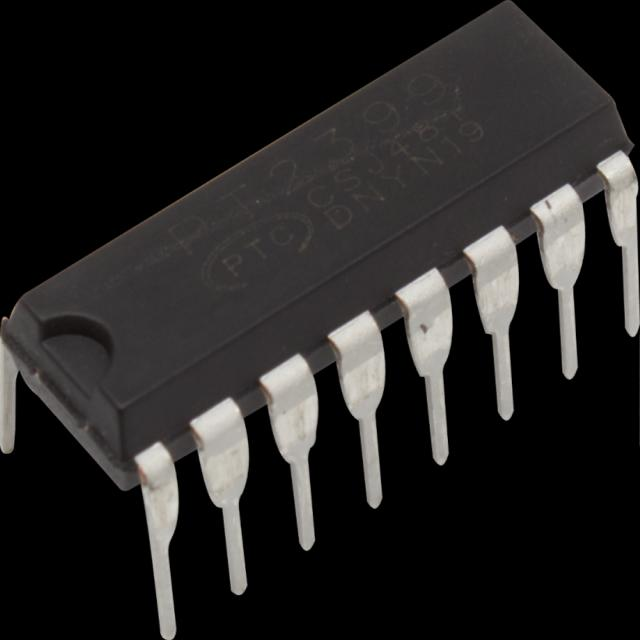IC: (18, 62, 619, 506)
